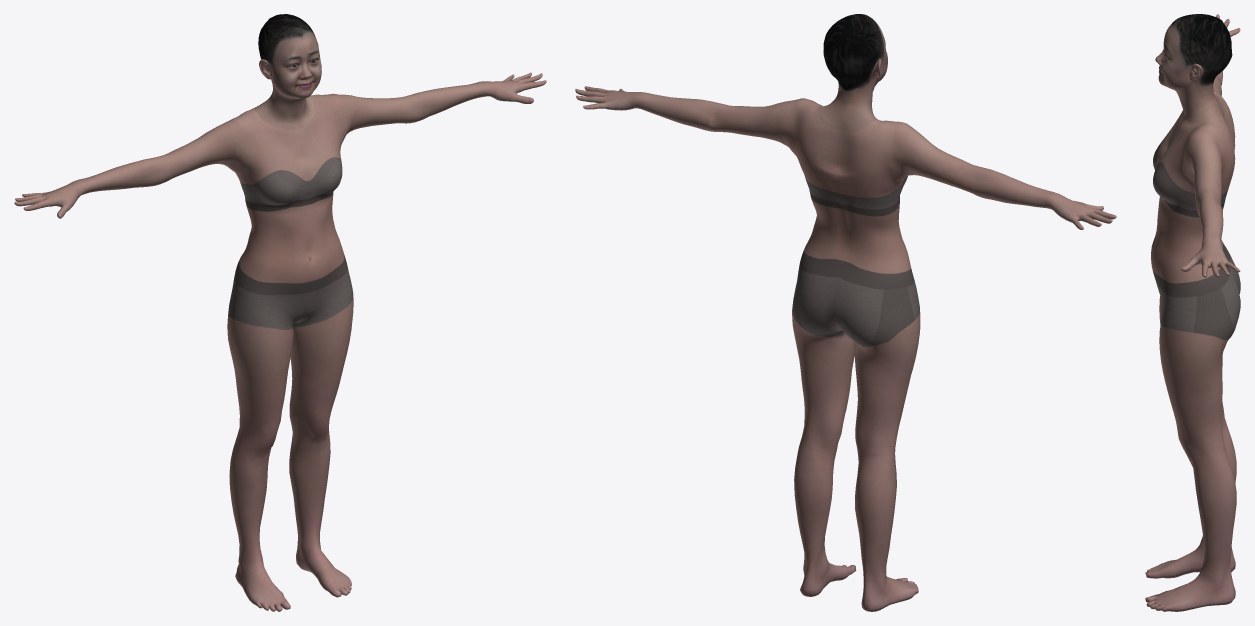
File: full_body.obj
The picture shows the model from 3 angles, left to right: view 1: azimuth 30°, elevation 25°; view 2: azimuth 150°, elevation 25°; view 3: azimuth 270°, elevation 25°; orthographic projection.
Size of the model in its own units: 1.7 by 1.75 by 0.2636.
Materials: 1 (1 with a texture image).
